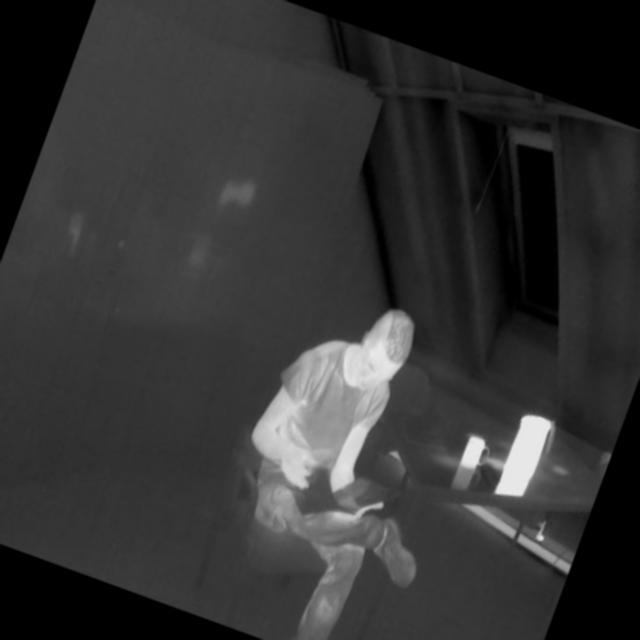person: (185, 271, 505, 640)
